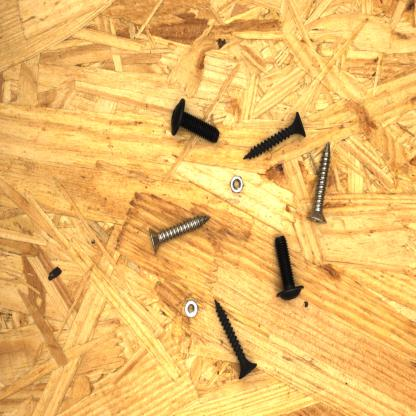screw: (214, 296, 258, 382), (241, 109, 309, 164), (148, 213, 211, 256), (168, 96, 222, 145), (306, 138, 334, 226), (274, 232, 305, 302)
